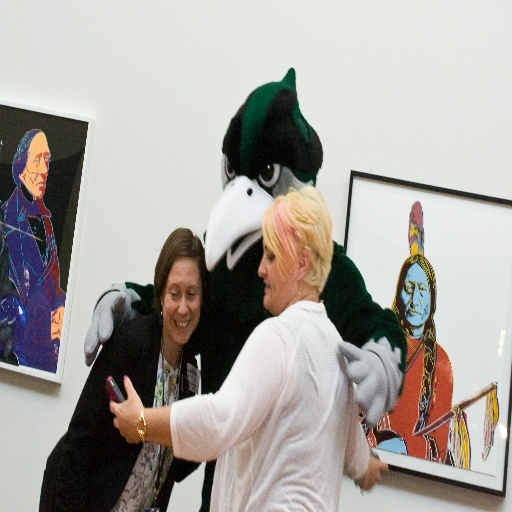hand: (334, 339, 389, 426), (81, 280, 126, 368), (98, 382, 139, 448), (360, 453, 388, 492), (52, 305, 64, 334), (50, 310, 60, 340)
